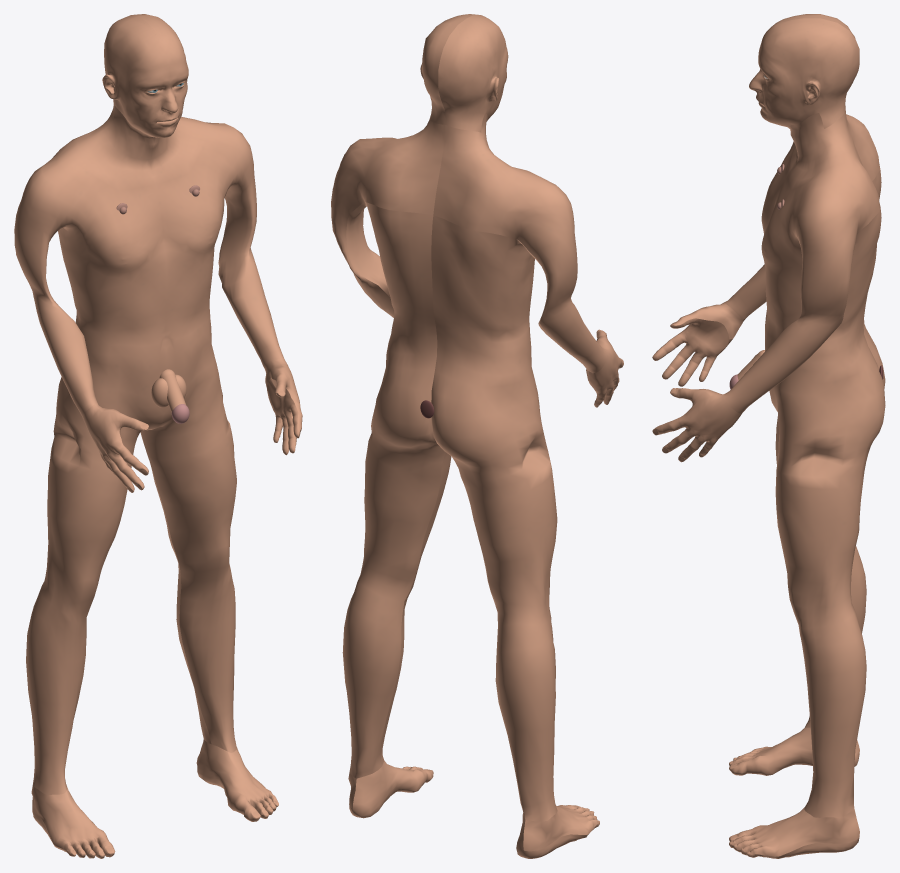
The model's file is body-erwachsener-maennlich-real-v3.glb.
3 views of the same model, side by side, from view 1: azimuth 30°, elevation 25°; view 2: azimuth 150°, elevation 25°; view 3: azimuth 270°, elevation 25° (orthographic).
Parts seen in each view (by area): view 1: real-human-body, real-human-penis; view 2: real-human-body; view 3: real-human-body.
Part boxes in pixels (bbox=[...]): real-human-body: bbox=[14, 14, 302, 858]; real-human-penis: bbox=[159, 369, 185, 412]; real-human-body: bbox=[331, 14, 623, 858]; real-human-body: bbox=[652, 14, 885, 858].
Bounding box in the file's own units: 0.5321 × 1.72 × 0.4589.
Materials: 8 (1 with a texture image).
